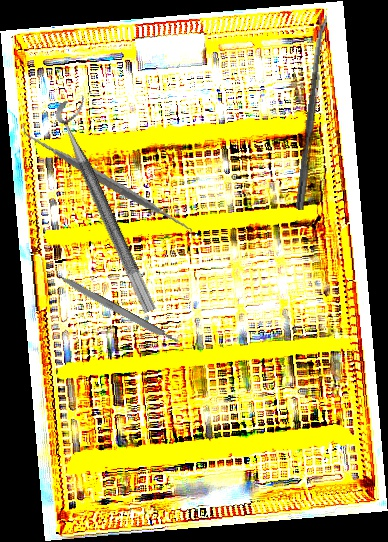Fixation Ring: (51, 93, 175, 315)
Scalpel Handle: (56, 273, 181, 348)
Spatula Surgical: (20, 98, 194, 264)
Surgical Spoon: (295, 14, 329, 211)
